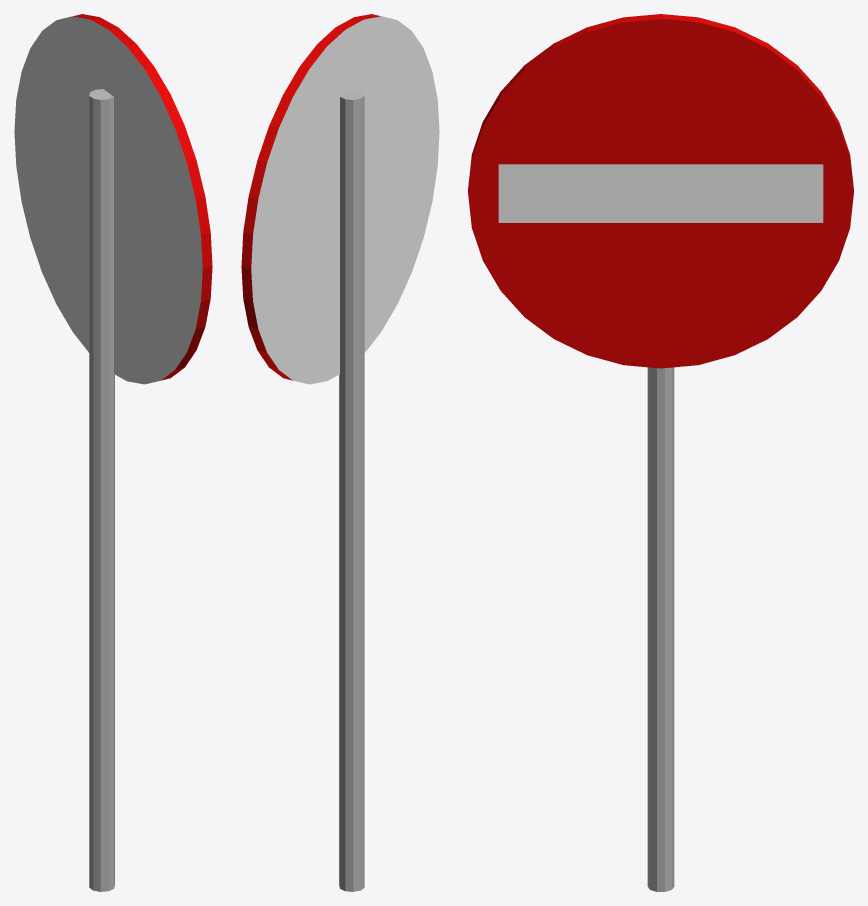
The model's file is Sign_02.fbx.
The picture shows the model from 3 angles, left to right: view 1: azimuth 30°, elevation 25°; view 2: azimuth 150°, elevation 25°; view 3: azimuth 270°, elevation 25°; orthographic projection. The views are drawn at different scales.
Parts seen in each view (by area): view 1: Cylinder.001, Cylinder; view 2: Cylinder.001, Cylinder; view 3: Cylinder.001, Cylinder.
Part boxes in pixels (left/top/right/bottom): Cylinder.001: left=14, top=14, right=212, bottom=384; Cylinder: left=89, top=89, right=114, bottom=891; Cylinder.001: left=241, top=14, right=439, bottom=384; Cylinder: left=339, top=89, right=364, bottom=891; Cylinder.001: left=468, top=14, right=853, bottom=368; Cylinder: left=647, top=367, right=674, bottom=891.
Bounding box in the file's own units: 7.17 × 216 × 86.2.
